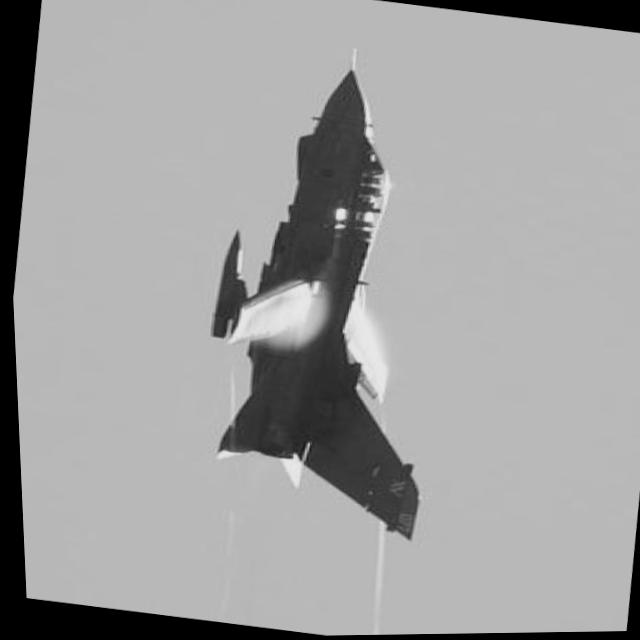aeroplane: (172, 29, 483, 546)
